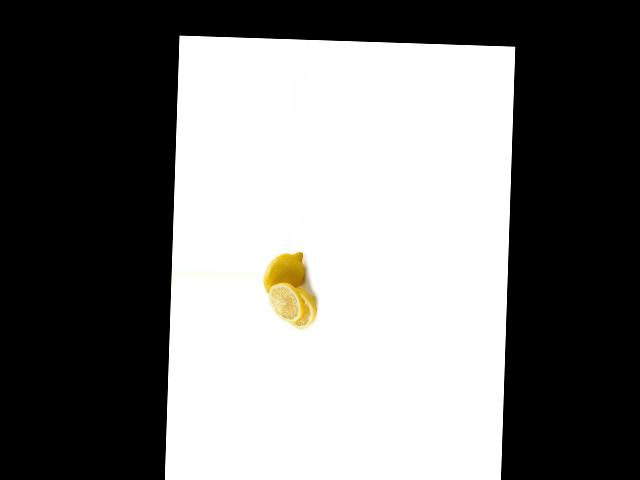lemon: (262, 246, 308, 297)
